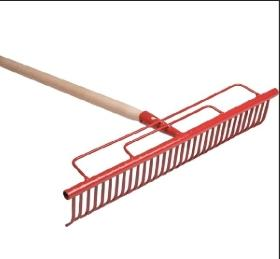RATEAU: (0, 50, 280, 250)
